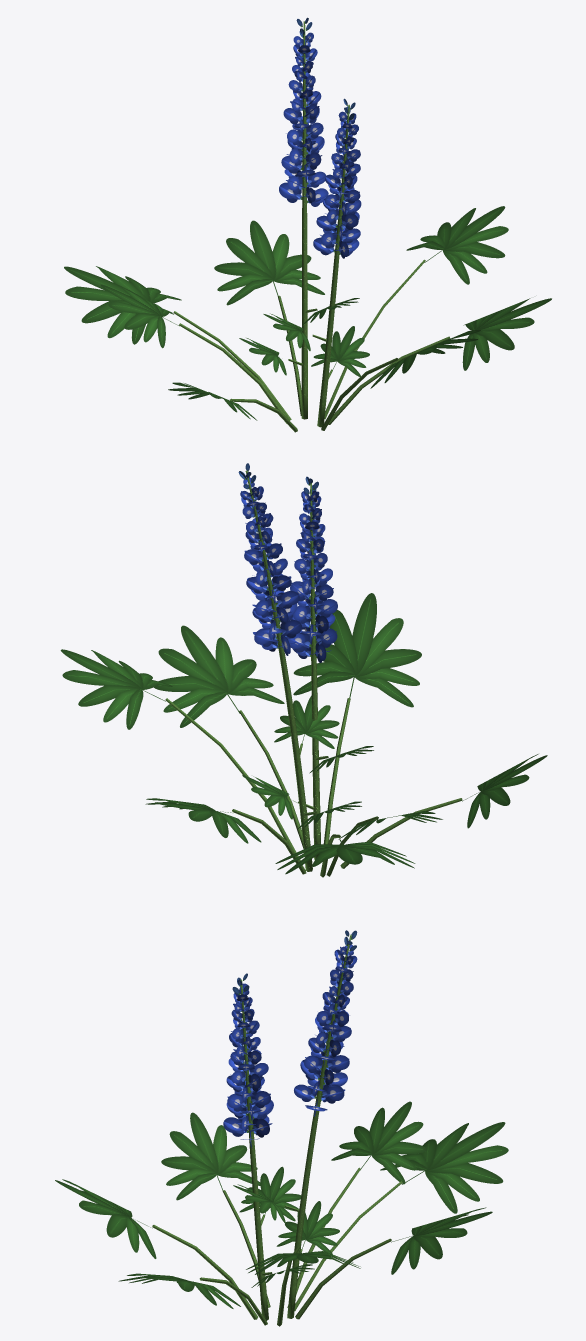
File: lupine_v01_LOD1.fbx
3 renders of one model, top to bottom at view 1: azimuth 30°, elevation 25°; view 2: azimuth 150°, elevation 25°; view 3: azimuth 270°, elevation 25°, orthographic. The views are drawn at different scales.
Parts seen in each view (by area): view 1: lupine_v01_LOD1; view 2: lupine_v01_LOD1; view 3: lupine_v01_LOD1.
Boxes of the visible parts, <box> form: lupine_v01_LOD1: <box>64,17,551,432</box>; lupine_v01_LOD1: <box>60,463,547,877</box>; lupine_v01_LOD1: <box>55,930,508,1326</box>.
Bounding box in the file's own units: 76.47 × 78.43 × 63.
Materials: 3 (3 with a texture image).
